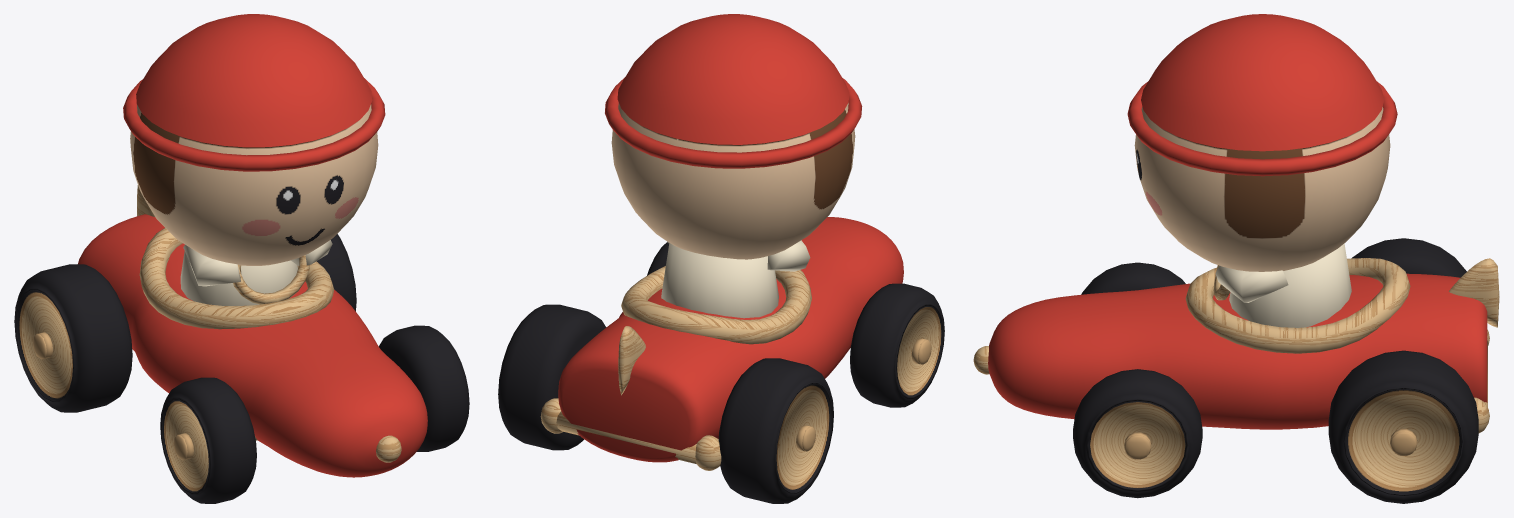
Rendered from woodie.glb.
3 renders of one model, left to right at view 1: azimuth 30°, elevation 25°; view 2: azimuth 150°, elevation 25°; view 3: azimuth 270°, elevation 25°, orthographic. The views are drawn at different scales.
Visible parts, largest first — view 1: body, cap, character, wheel-back-right, wheel-front-right, trim-lip, wheel-front-left, wheel-back-left, trim-steer, trim-wood; view 2: body, cap, character, wheel-back-right, wheel-front-right, wheel-back-left, trim-lip, trim-wood; view 3: body, cap, character, wheel-back-left, wheel-front-left, trim-lip, trim-wood, wheel-back-right, wheel-front-right.
Part boxes in pixels (left/top/right/bottom): body: left=78, top=214, right=427, bottom=477; cap: left=123, top=14, right=385, bottom=171; character: left=130, top=104, right=378, bottom=305; wheel-back-right: left=14, top=264, right=132, bottom=412; wheel-front-right: left=160, top=377, right=256, bottom=503; trim-lip: left=139, top=228, right=334, bottom=329; wheel-front-left: left=379, top=325, right=469, bottom=451; wheel-back-left: left=316, top=234, right=356, bottom=311; trim-steer: left=233, top=255, right=309, bottom=304; trim-wood: left=137, top=185, right=401, bottom=462; body: left=558, top=217, right=903, bottom=462; cap: left=605, top=14, right=862, bottom=168; character: left=611, top=102, right=855, bottom=318; wheel-back-right: left=718, top=358, right=833, bottom=503; wheel-front-right: left=850, top=283, right=944, bottom=407; wheel-back-left: left=498, top=304, right=606, bottom=450; trim-lip: left=621, top=266, right=811, bottom=344; trim-wood: left=540, top=326, right=721, bottom=470; body: left=988, top=273, right=1487, bottom=429; cap: left=1127, top=14, right=1397, bottom=176; character: left=1134, top=107, right=1390, bottom=327; wheel-back-left: left=1328, top=350, right=1478, bottom=503; wheel-front-left: left=1073, top=369, right=1202, bottom=498; trim-lip: left=1185, top=258, right=1410, bottom=353; trim-wood: left=973, top=258, right=1499, bottom=433; wheel-back-right: left=1352, top=238, right=1466, bottom=277; wheel-front-right: left=1081, top=262, right=1185, bottom=294.
Size of the model in its own units: 1.04 by 1.34 by 1.54.
7 materials, 3 textured.
